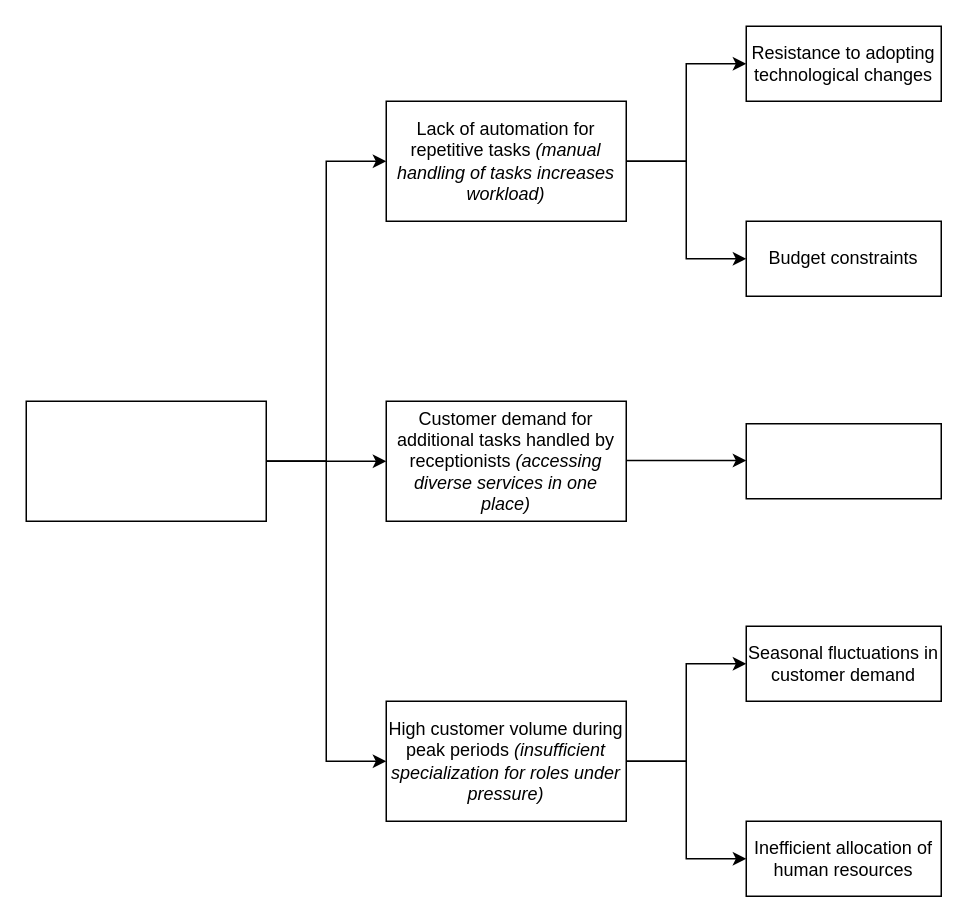
The diagram is 968 pixels wide and 923 high, and some of its shapes have lost their labels. Each missing label, with the centre of its shape:
Receptionists handle multiple roles simultaneously: pixel 145 460
Time efficiency for customers: pixel 843 460
